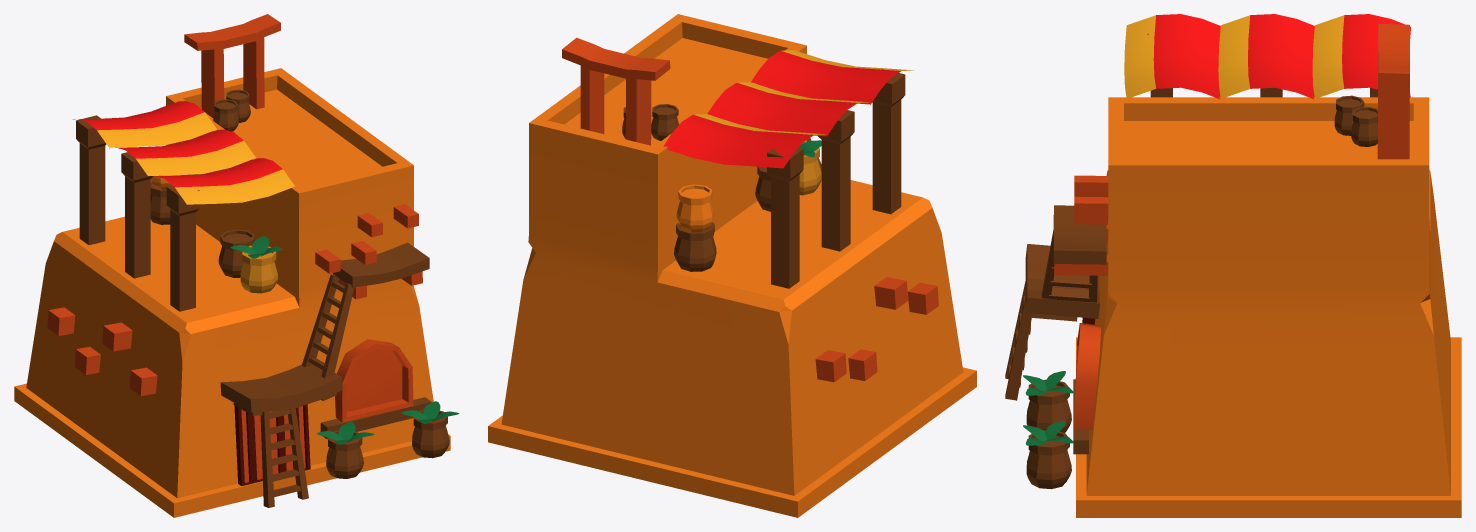
File: DesertHouse_0.FBX
The picture shows the model from 3 angles, left to right: view 1: azimuth 30°, elevation 25°; view 2: azimuth 150°, elevation 25°; view 3: azimuth 270°, elevation 25°; orthographic projection. The views are drawn at different scales.
Visible parts, largest first — view 1: sand_House_1; view 2: sand_House_1; view 3: sand_House_1.
Part boxes in pixels (<box>): sand_House_1: <box>14,14,459,517</box>; sand_House_1: <box>488,14,976,517</box>; sand_House_1: <box>1005,14,1461,517</box>.
Size of the model in its own units: 1065 by 1261 by 1277.
